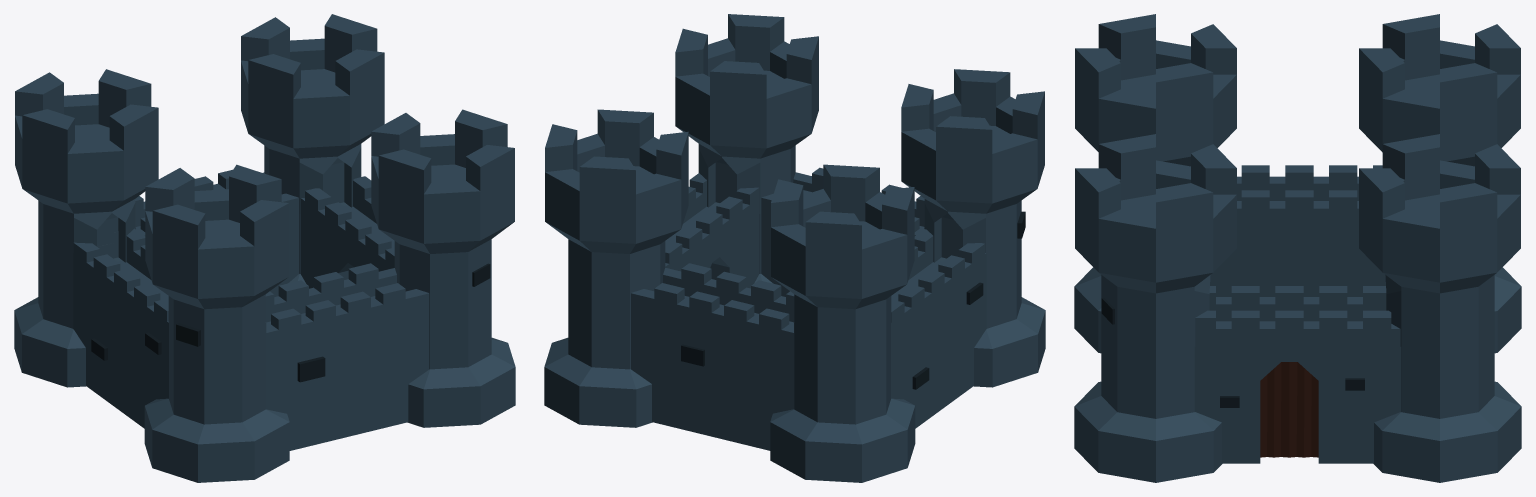
Rendered from Castle.fbx.
3 renders of one model, left to right at view 1: azimuth 30°, elevation 25°; view 2: azimuth 150°, elevation 25°; view 3: azimuth 270°, elevation 25°, orthographic. The views are drawn at different scales.
Visible parts, largest first — view 1: node_id8 (×2); view 2: node_id8 (×2); view 3: node_id8 (×3).
Boxes of the visible parts, x1,y1,x2,y2 form: node_id8 (×2): (14,14,515,482); node_id8 (×2): (544,14,1045,482); node_id8 (×3): (1074,14,1521,482).
Bounding box in the file's own units: 0.512 × 0.3563 × 0.512.
